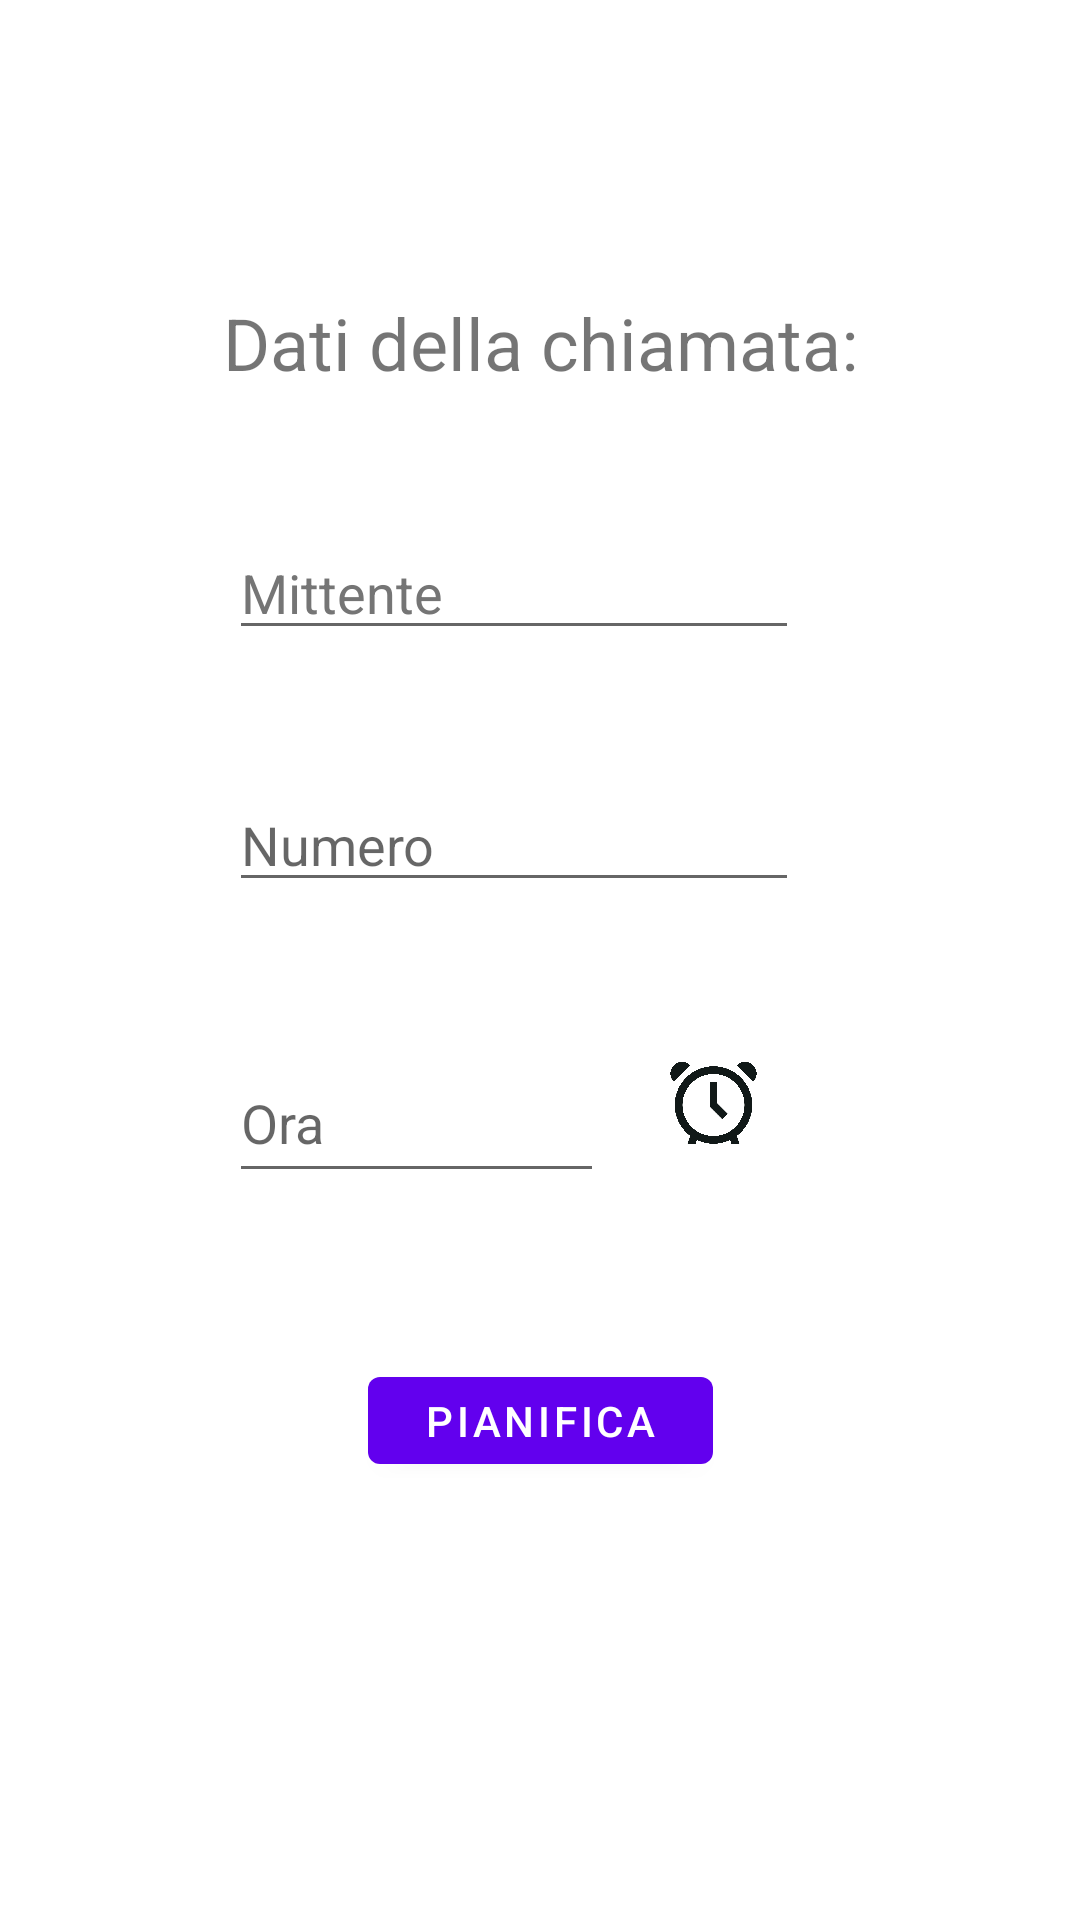

Icons on this 1080*1920 Android screen, each with its box as (x1, y1, x2, y2):
alarm: (670, 1062, 757, 1144)
